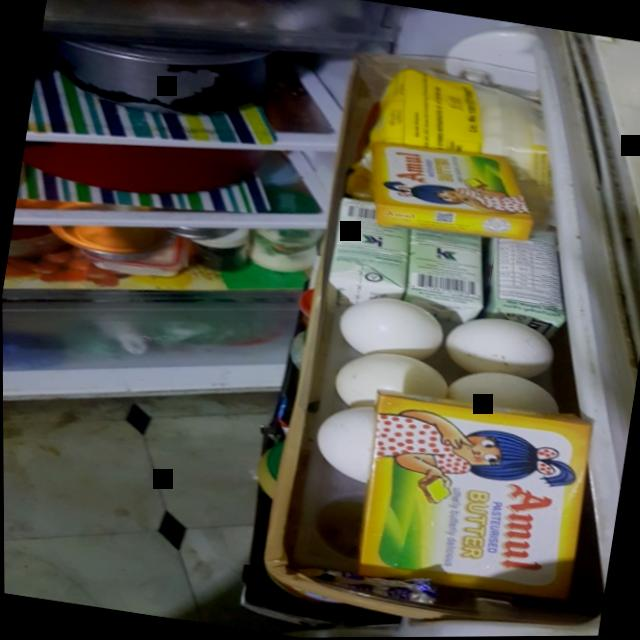butter: (339, 381, 621, 633), (355, 132, 550, 255)
eggs: (303, 392, 426, 501), (438, 357, 578, 445), (329, 282, 458, 369), (323, 342, 454, 421), (437, 308, 560, 392)
